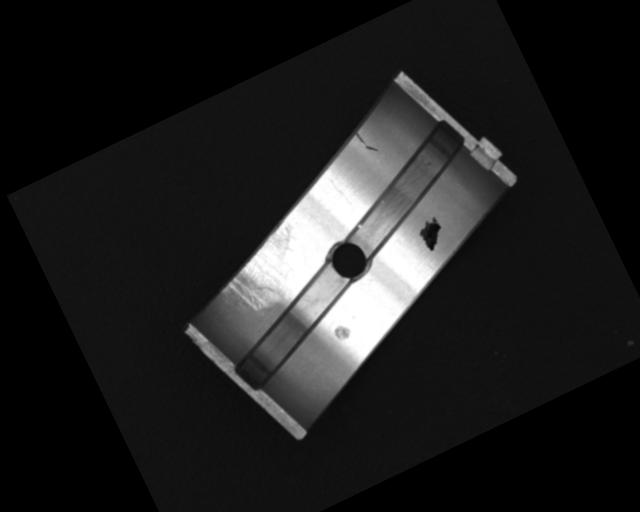blot: (413, 213, 450, 253)
bruise: (331, 321, 352, 343)
gap: (323, 118, 493, 264), (210, 257, 376, 396)
hole: (322, 230, 376, 287)
nick: (327, 175, 352, 210), (353, 125, 379, 156)
scratch: (203, 217, 320, 324)
